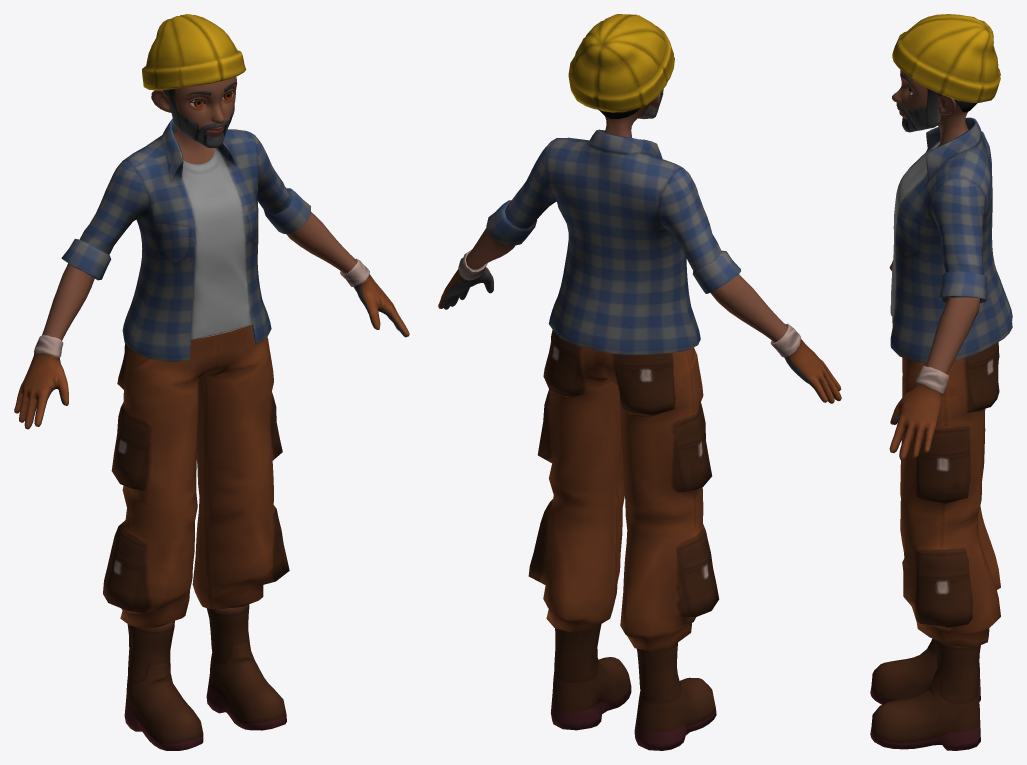
Rendered from Contruction Worker_Mesh.obj.
3 renders of one model, left to right at view 1: azimuth 30°, elevation 25°; view 2: azimuth 150°, elevation 25°; view 3: azimuth 270°, elevation 25°, orthographic. The views are drawn at different scales.
Visible parts, largest first — view 1: Contruction Worker_Mesh_0; view 2: Contruction Worker_Mesh_0; view 3: Contruction Worker_Mesh_0.
Boxes of the visible parts, <box> form: Contruction Worker_Mesh_0: <box>14,14,409,750</box>; Contruction Worker_Mesh_0: <box>438,14,841,750</box>; Contruction Worker_Mesh_0: <box>870,14,1012,750</box>.
Bounding box in the file's own units: 1.06 × 1.84 × 0.3364.
Materials: 1 (1 with a texture image).
